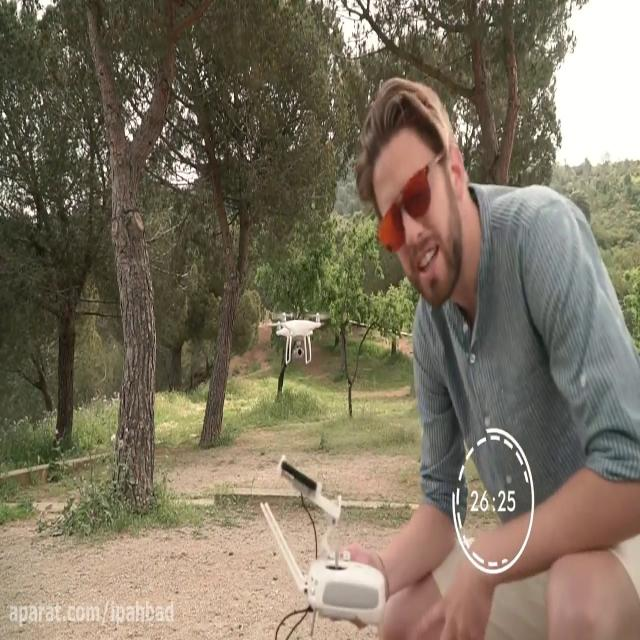drone: (266, 304, 332, 369)
